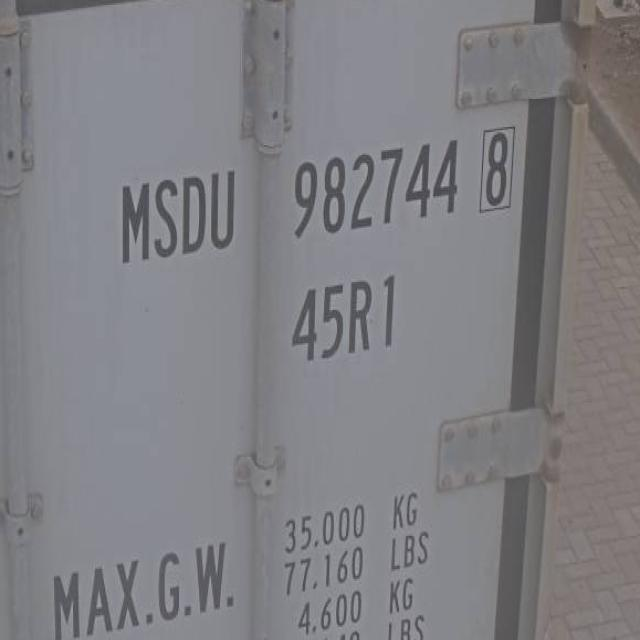dv: (474, 121, 525, 221)
owner: (111, 160, 247, 276)
serial: (284, 126, 463, 244)
size: (284, 266, 412, 369)
